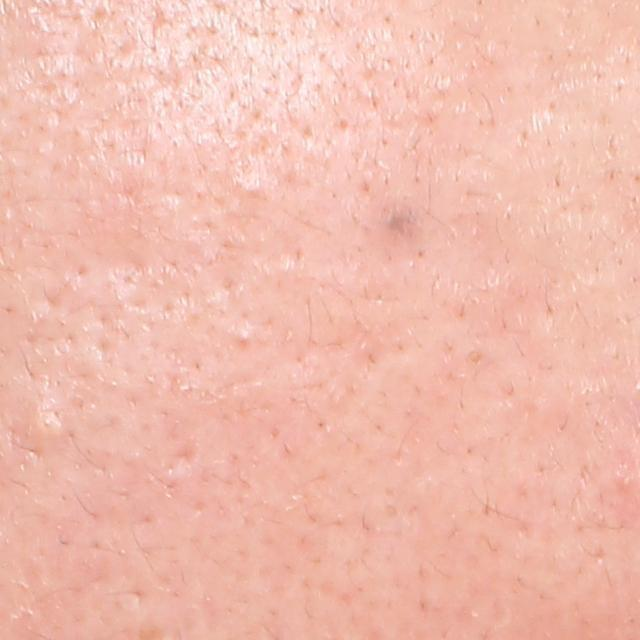comedo: (32, 409, 68, 439), (232, 328, 260, 351)
